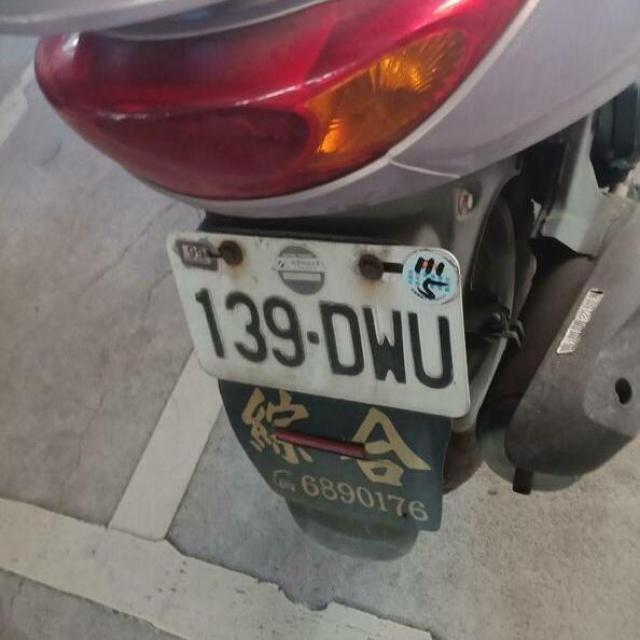W: (162, 200, 480, 436)
